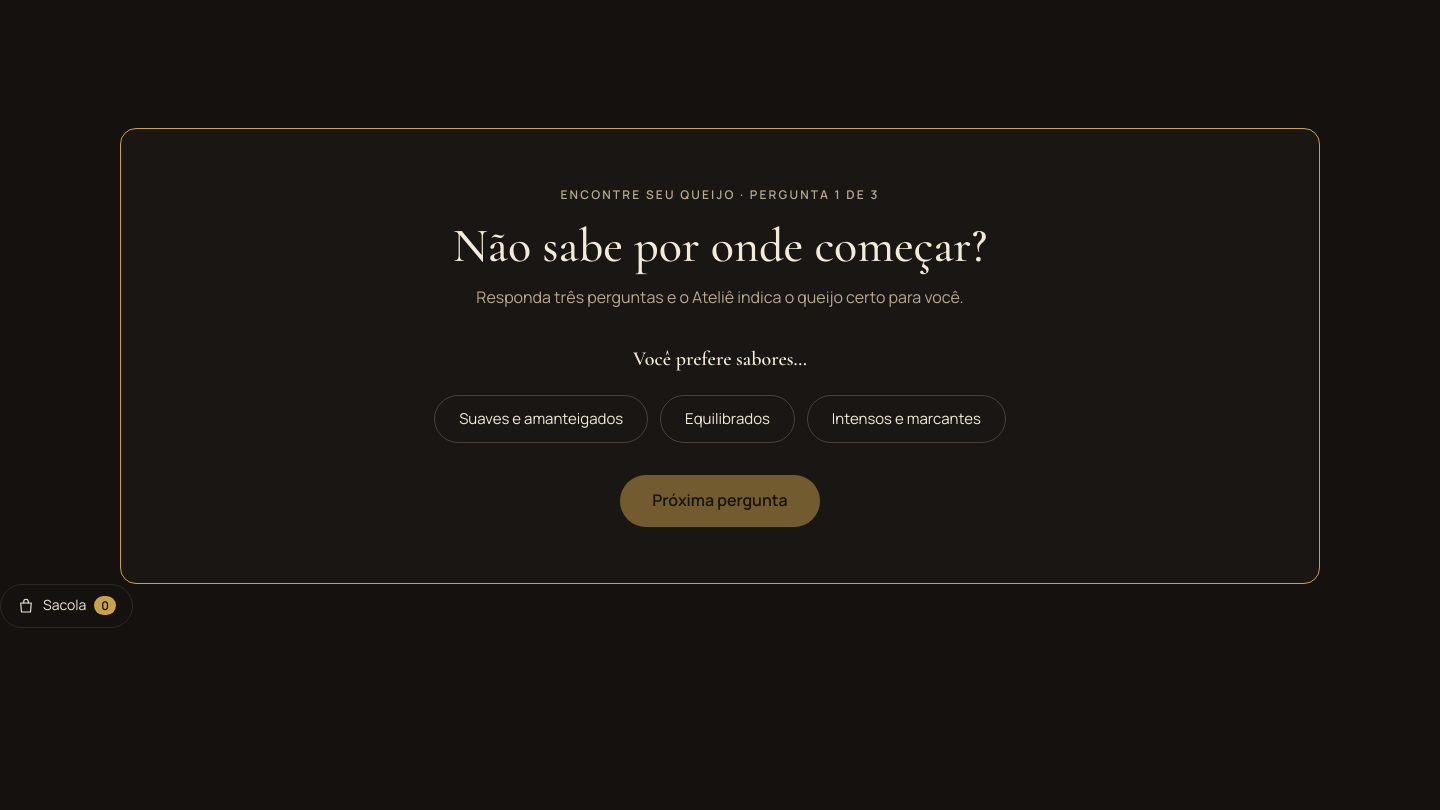
Test case: Quiz › indica o Brie francês para suaves, presente e branco/espumante
This screenshot has width=1440, height=810.
What coordinates should you click on to do the following:
click the button "Suaves e amanteigados"
I would click on:
 (541, 419)
Its box is [434,395,648,443].
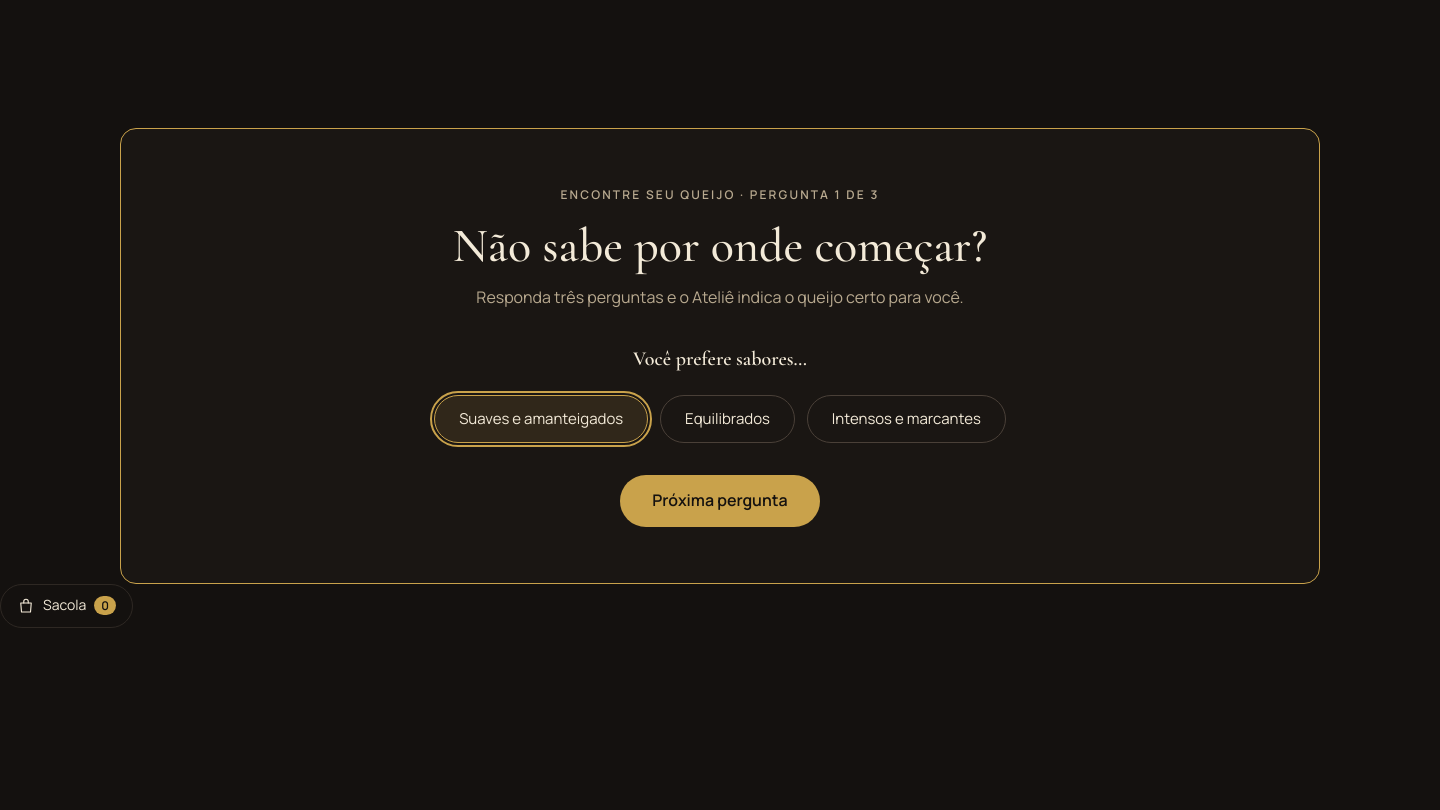
What coordinates should you click on to do the following:
click the button "Próxima pergunta"
I would click on:
 (720, 501)
Its box is [620,475,820,527].
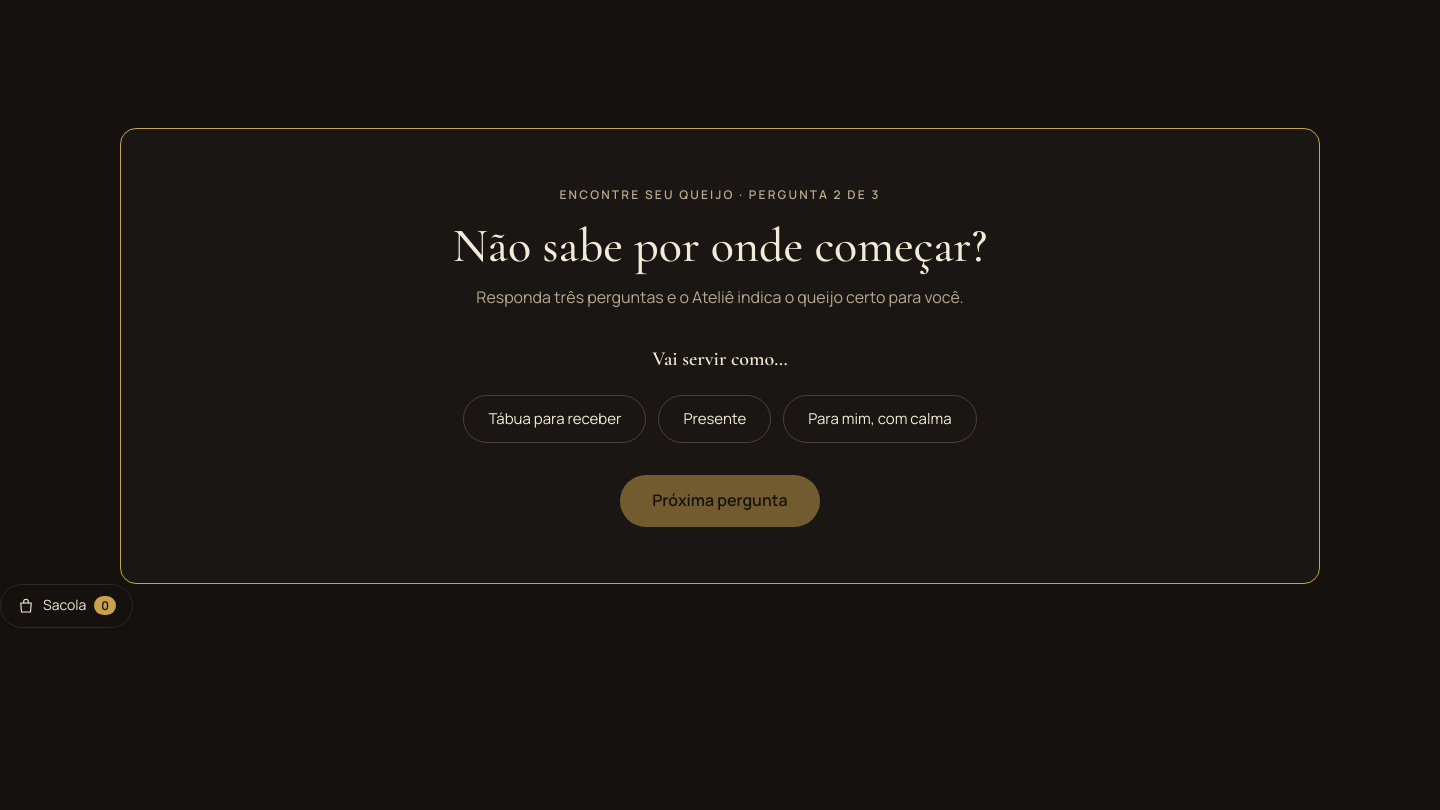
What coordinates should you click on to do the following:
click the button "Presente"
I would click on:
 (715, 419)
Its box is [658,395,771,443].
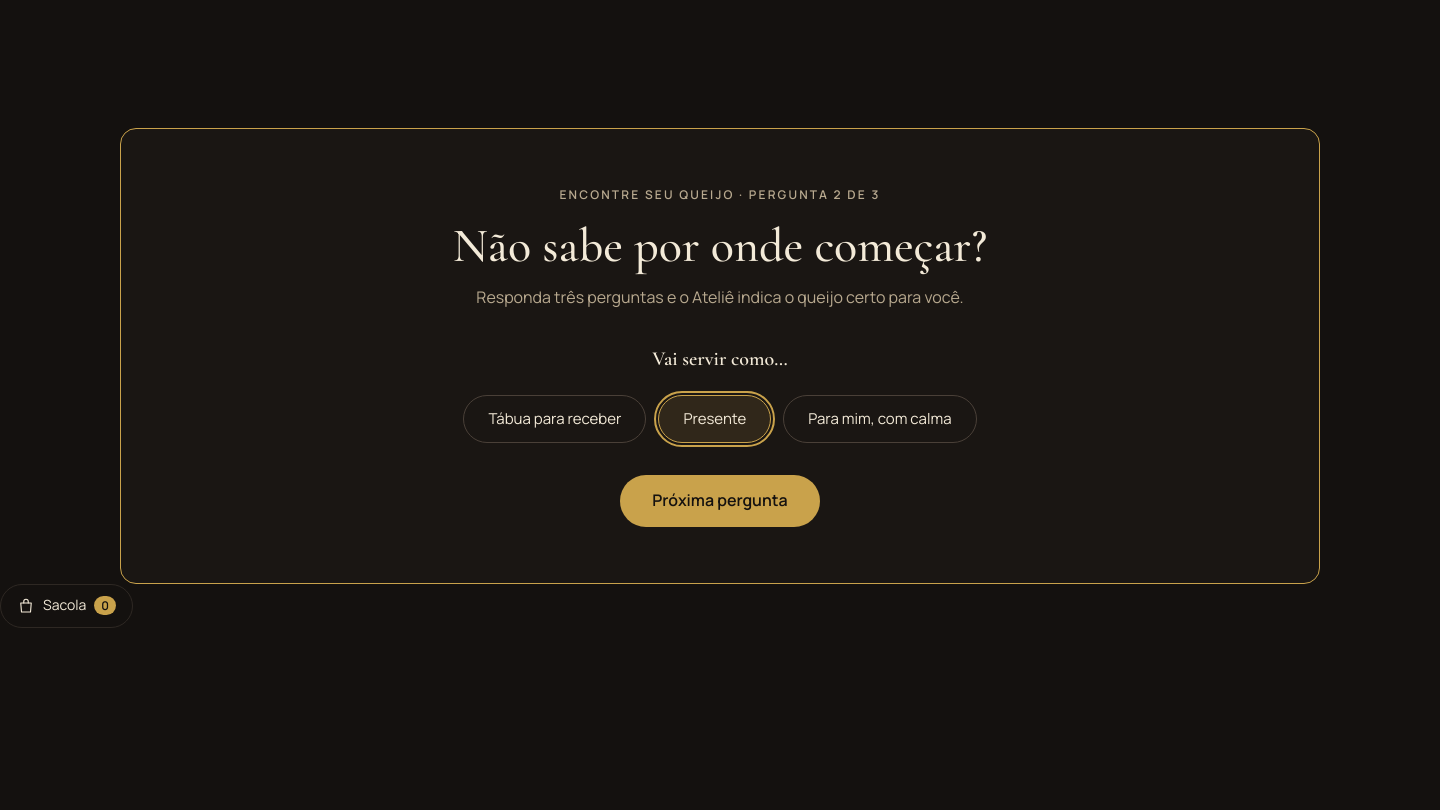
What coordinates should you click on to do the following:
click the button "Próxima pergunta"
I would click on:
 (720, 501)
Its box is [620,475,820,527].
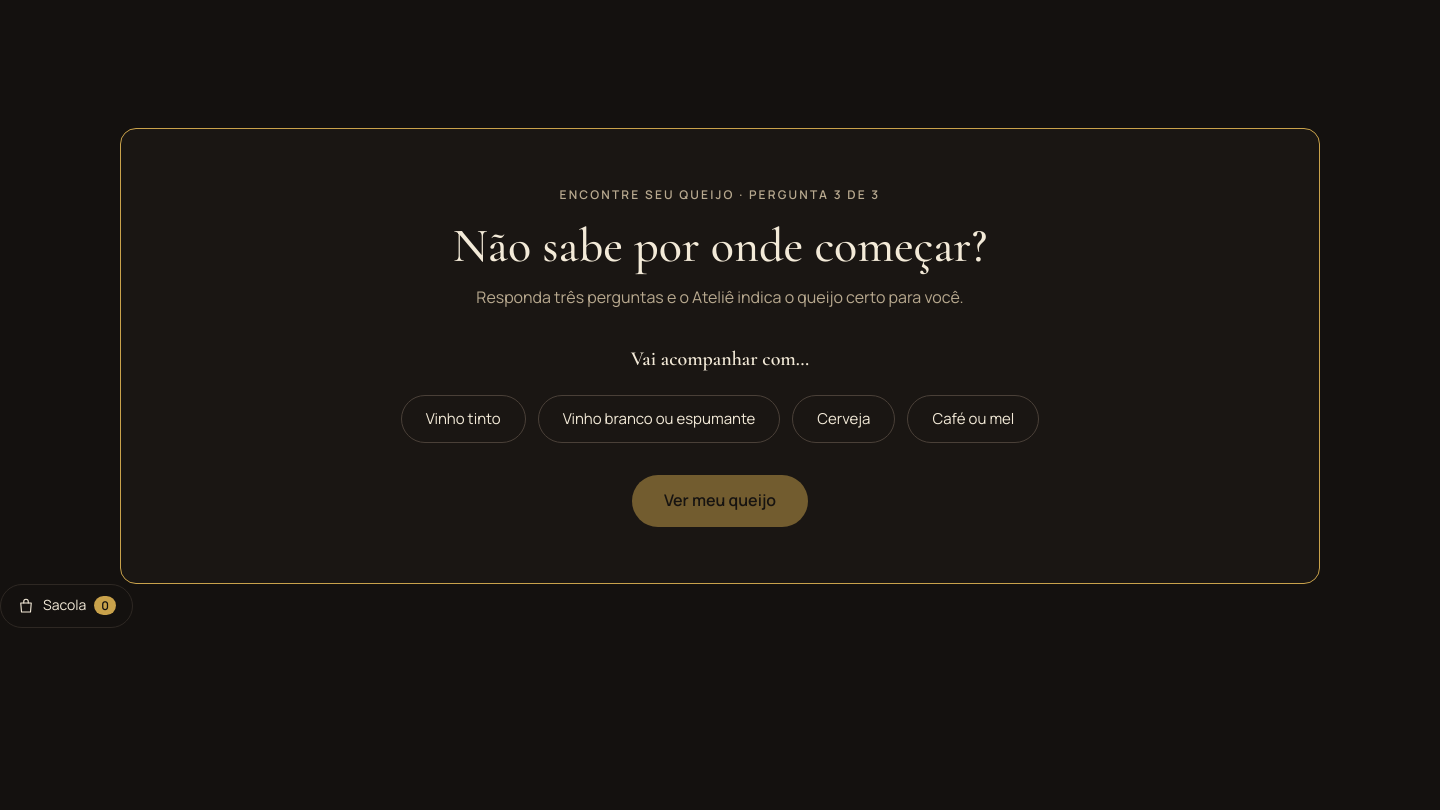
What coordinates should you click on to do the following:
click the button "Vinho branco ou espumante"
I would click on:
 (659, 419)
Its box is [538,395,780,443].
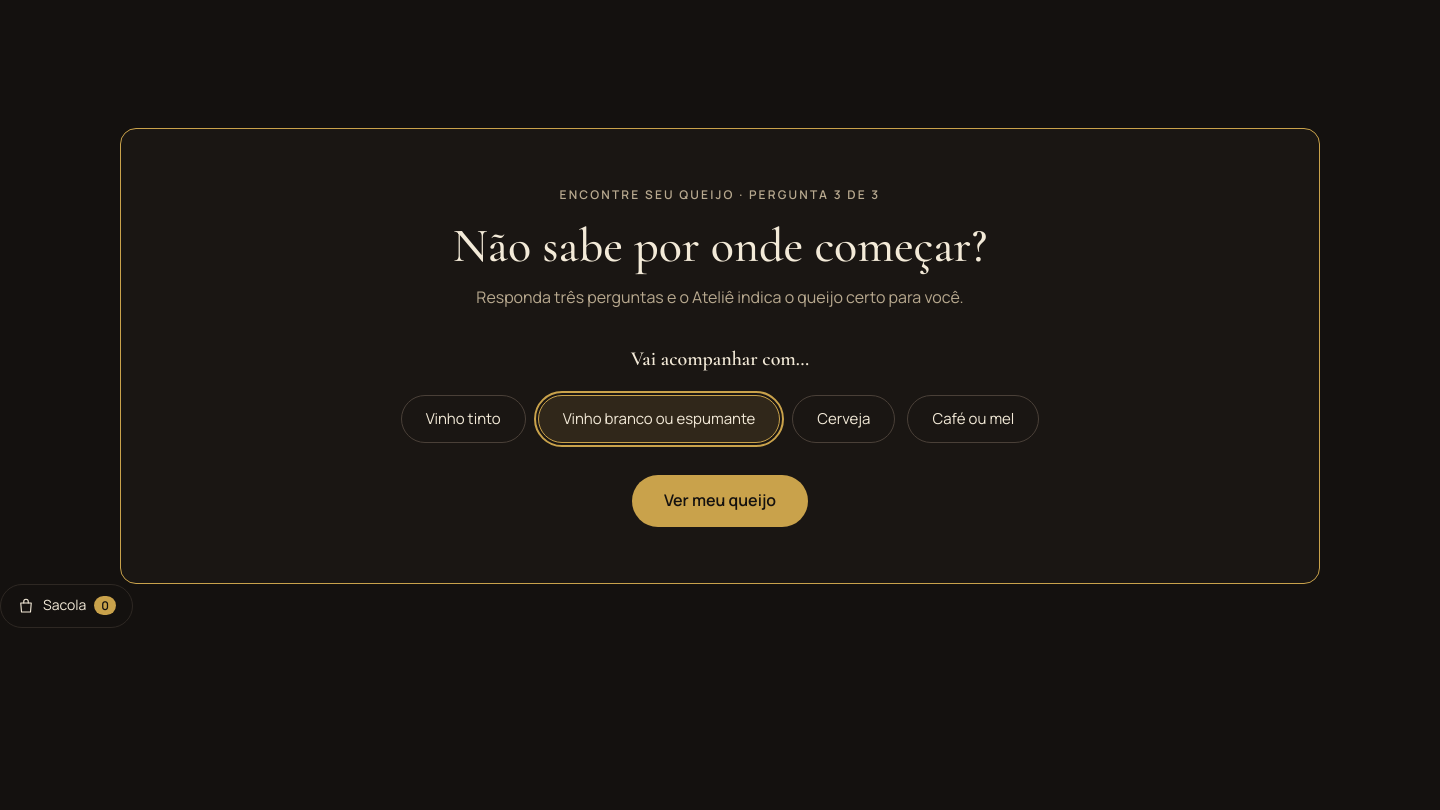
What coordinates should you click on to do the following:
click the button "Ver meu queijo"
I would click on:
 (720, 501)
Its box is [632,475,808,527].
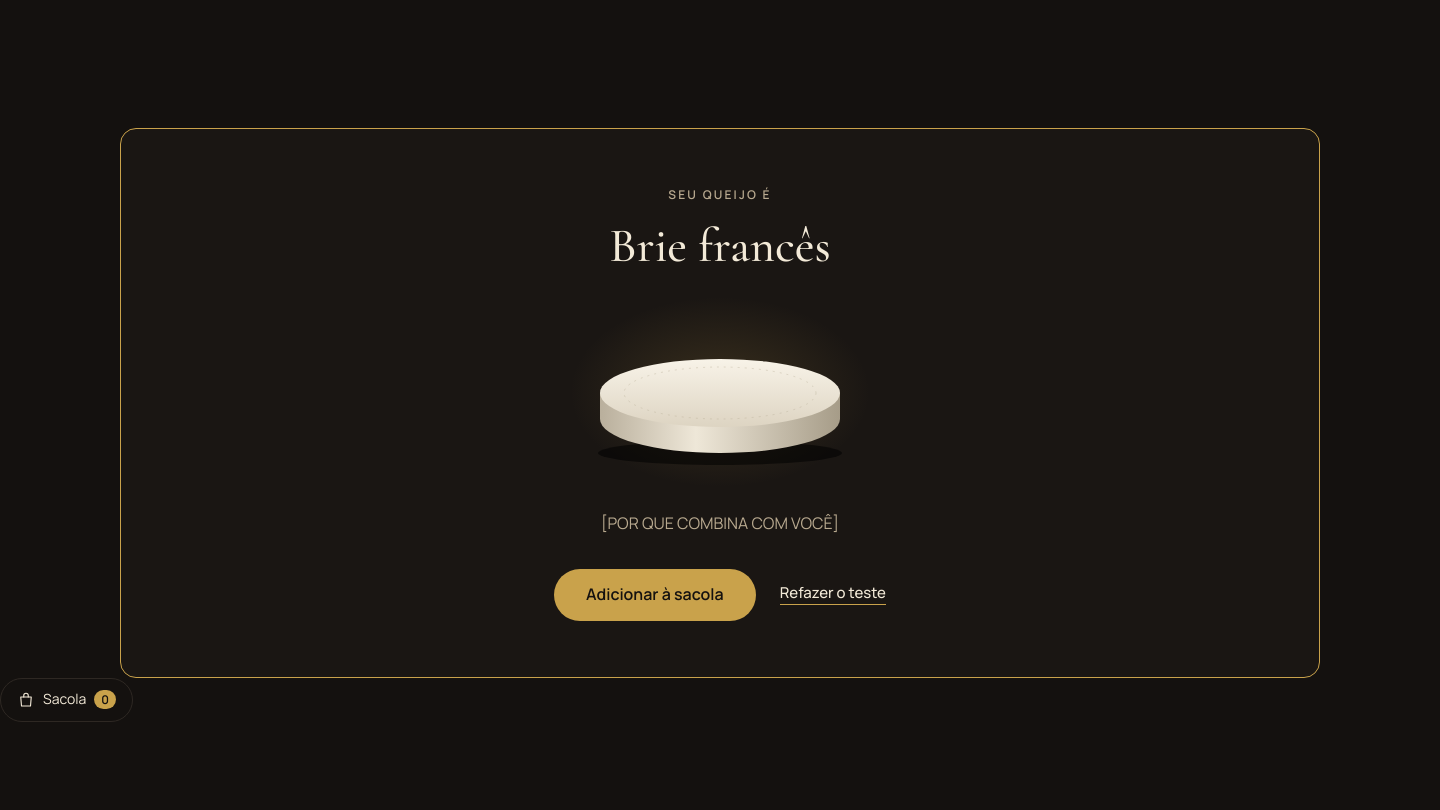
Expected: the heading "Brie francês" is shown, [609,217,831,275]
